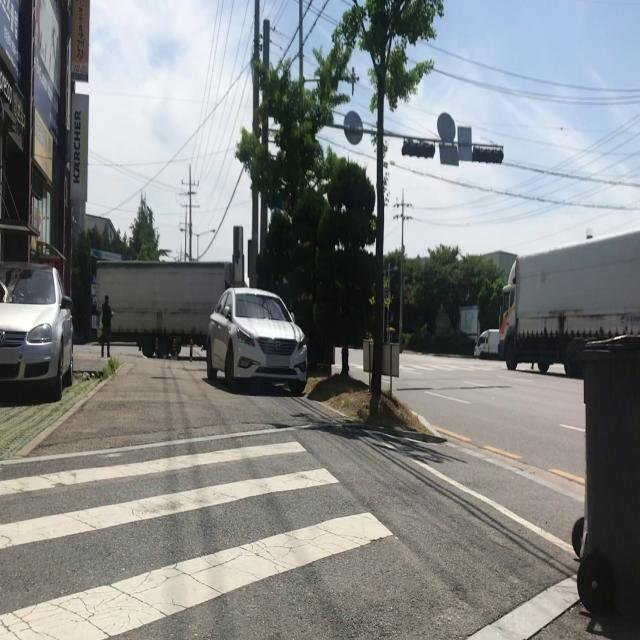횡단보도: (0, 439, 399, 640), (337, 358, 506, 374)
